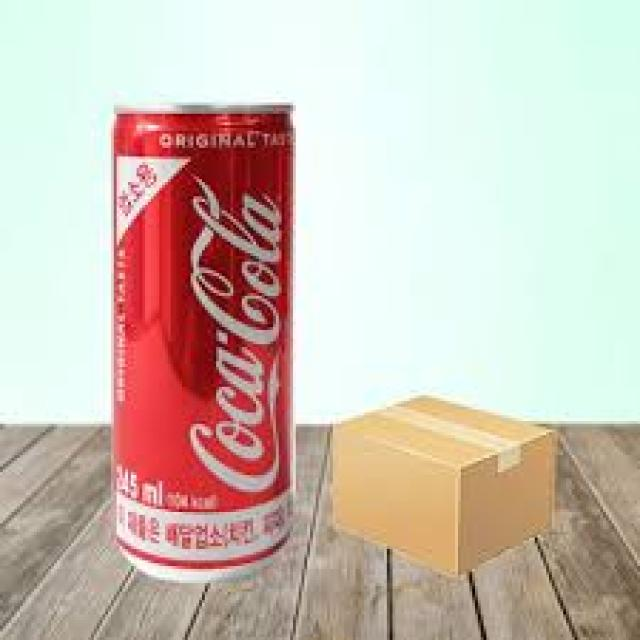Coca-Cola: (98, 92, 304, 587)
